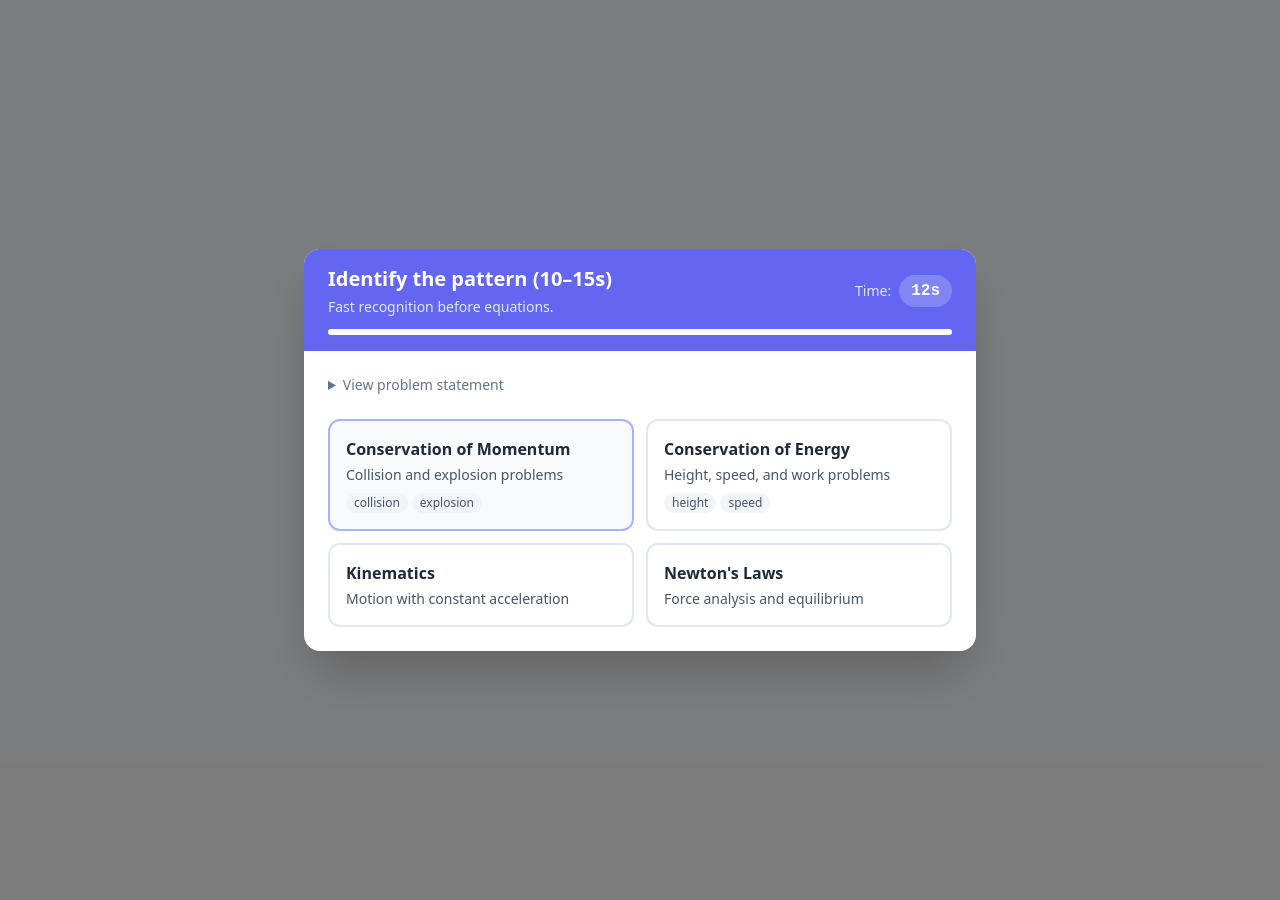
Test case: PatternFirstModal › pattern selection › shows "Selected" badge after selection
Click the text "Conservation of Energy" at coordinates (757, 449), box x1=664 y1=438 x2=850 y2=460
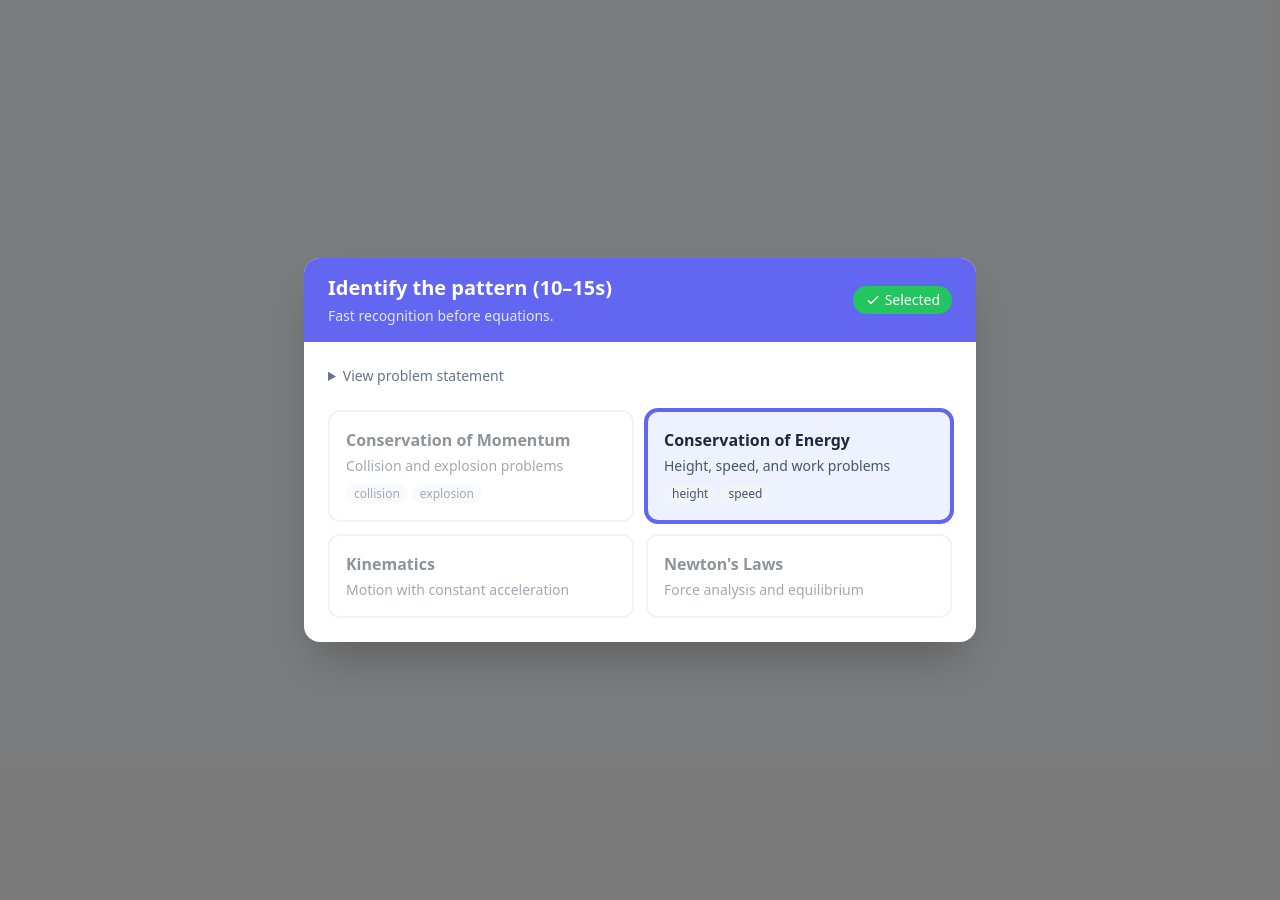
Now the text "Selected" is shown, box x1=853 y1=286 x2=952 y2=314
